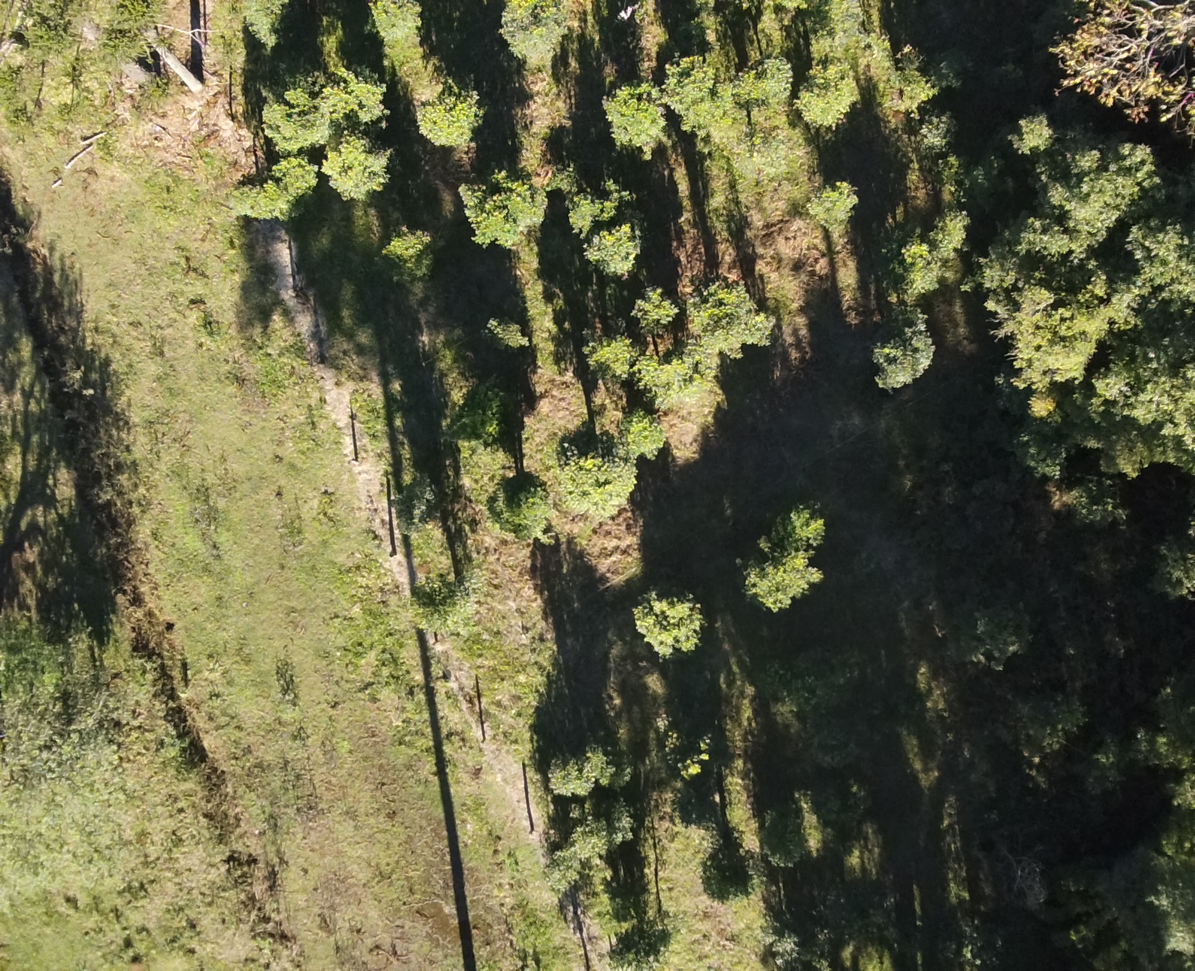erva: (443, 167, 543, 255), (628, 564, 711, 656), (686, 278, 777, 354), (715, 114, 807, 185), (859, 317, 948, 389), (547, 454, 635, 526), (415, 82, 494, 153), (579, 214, 656, 285), (500, 0, 577, 66), (327, 131, 395, 202), (634, 353, 706, 420), (593, 80, 662, 149), (795, 57, 860, 130), (597, 404, 676, 464), (761, 493, 826, 565), (253, 89, 331, 148), (399, 580, 481, 633), (745, 555, 816, 615), (316, 72, 389, 129), (654, 49, 710, 123), (916, 199, 968, 273), (803, 176, 863, 239), (223, 175, 301, 221), (730, 52, 795, 106), (489, 490, 547, 549), (565, 175, 621, 234), (446, 432, 506, 483), (583, 323, 634, 382), (542, 746, 590, 807), (379, 224, 427, 282), (357, 0, 432, 37), (629, 282, 678, 335), (890, 255, 938, 304), (261, 150, 318, 191), (396, 471, 438, 524), (479, 313, 530, 356), (586, 740, 618, 781)
